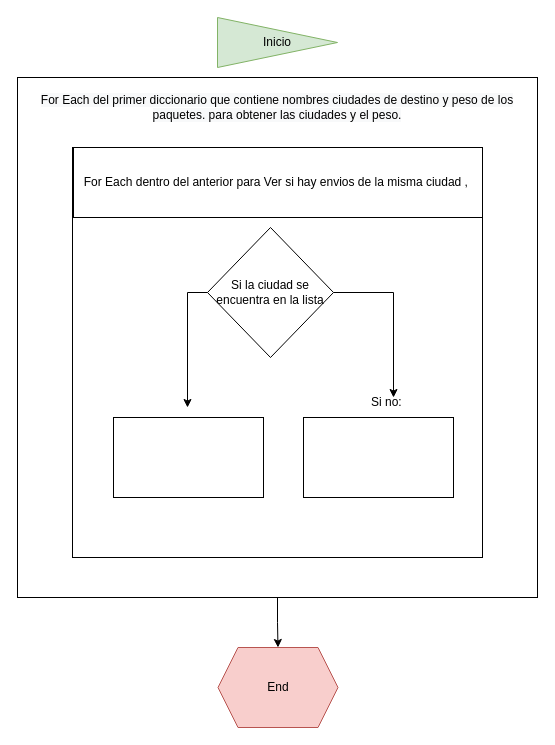
Some shapes in this 555 by 745 pixel diagram are drawn without their labels. Here are the shapes that lost their labels. From the top down, the centre of each, then its label:
[188,457]: Sumale el Peso a la ciudad
[378,457]: Agrega la ciudad a la lista.
